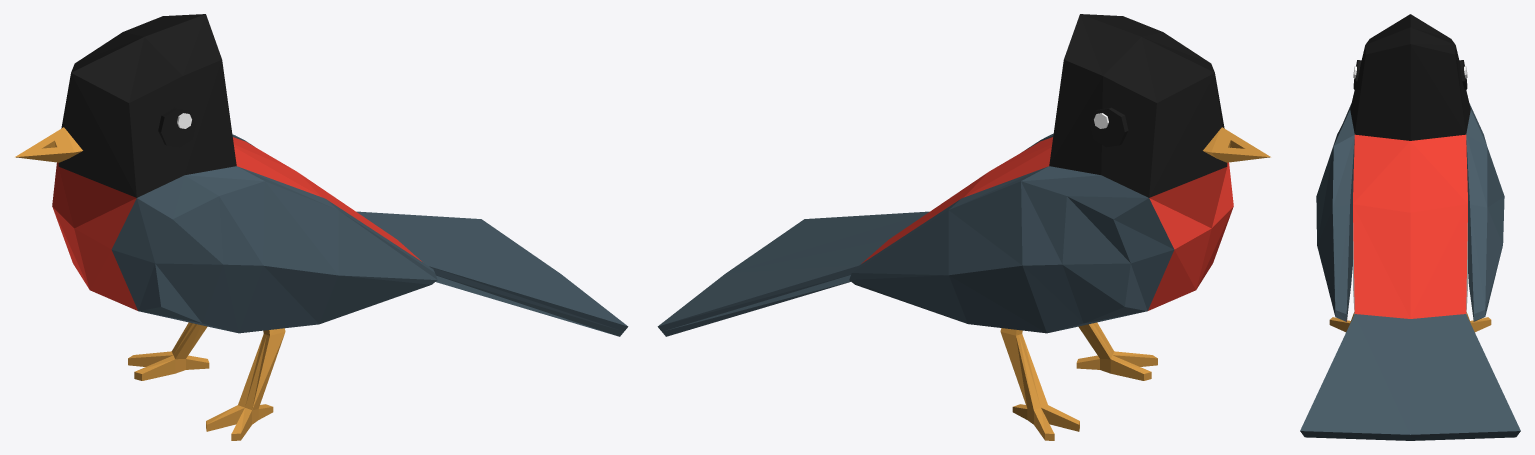
Rendered from robinJ.glb.
The picture shows the model from 3 angles, left to right: view 1: azimuth 30°, elevation 25°; view 2: azimuth 150°, elevation 25°; view 3: azimuth 270°, elevation 25°; orthographic projection. The views are drawn at different scales.
Visible parts, largest first — view 1: bird_01_Cube.011; view 2: bird_01_Cube.011; view 3: bird_01_Cube.011.
Part boxes in pixels (x1,y1,x2,y2): bird_01_Cube.011: [15, 14, 628, 440]; bird_01_Cube.011: [657, 14, 1270, 440]; bird_01_Cube.011: [1300, 14, 1520, 440].
Bounding box in the file's own units: 296 × 198 × 138.
